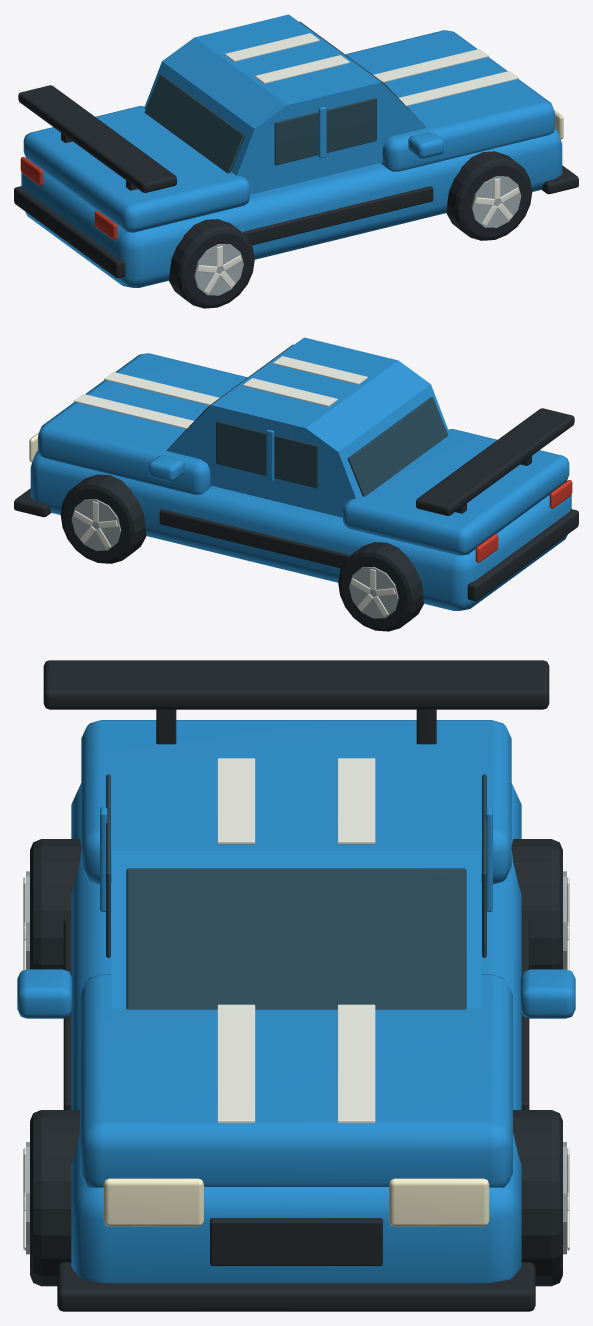
3 views of the same model, one above another, from view 1: azimuth 30°, elevation 25°; view 2: azimuth 150°, elevation 25°; view 3: azimuth 270°, elevation 25° (orthographic). The views are drawn at different scales.
Parts seen in each view (by area): view 1: cabin, chassis, front_hood, rear_deck, rear_wing, rear_windscreen, side_window, wheel_front_left, wheel_rear_left, door_sill, rear_bumper, rally_wheel_alloy.002 (+10 smaller); view 2: cabin, chassis, front_hood, rear_deck, rear_wing, rear_windscreen, side_window.001, wheel_front_right, wheel_rear_right, door_sill.001, rear_bumper, rally_wheel_alloy.003 (+10 smaller); view 3: front_hood, front_windscreen, cabin, chassis, rear_wing, rear_deck, front_splitter, front_grille, wheel_front_left, wheel_front_right, wheel_rear_left, wheel_rear_right (+12 smaller).
Part boxes in pixels (x1,y1,x2,y2): cabin: (144,14,426,194); chassis: (21,128,562,287); front_hood: (345,30,554,171); rear_deck: (23,106,249,232); rear_wing: (18,85,176,192); rear_windscreen: (144,74,245,173); side_window: (274,98,376,165); wheel_front_left: (446,151,532,240); wheel_rear_left: (169,219,254,308); door_sill: (243,186,433,245); rear_bumper: (14,186,125,277); rally_wheel_alloy.002: (471,176,521,227); cabin: (166,337,448,517); chassis: (30,451,571,610); front_hood: (38,353,247,494); rear_deck: (343,429,569,555); rear_wing: (416,408,574,515); rear_windscreen: (347,397,448,496); side_window.001: (216,421,318,488); wheel_front_right: (60,474,146,563); wheel_rear_right: (338,542,423,631); door_sill.001: (159,509,349,568); rear_bumper: (467,509,578,600); rally_wheel_alloy.003: (71,499,121,550); front_hood: (80,974,512,1187); front_windscreen: (126,868,466,1009); cabin: (111,758,481,1008); chassis: (71,783,521,1283); rear_wing: (43,660,549,709); rear_deck: (81,720,511,884); front_splitter: (57,1262,535,1311); front_grille: (210,1218,382,1265); wheel_front_left: (30,1110,79,1286); wheel_front_right: (513,1110,562,1286); wheel_rear_left: (30,839,81,969); wheel_rear_right: (511,839,562,969).
Size of the model in its own units: 4.21 by 1.5 by 2.23.
